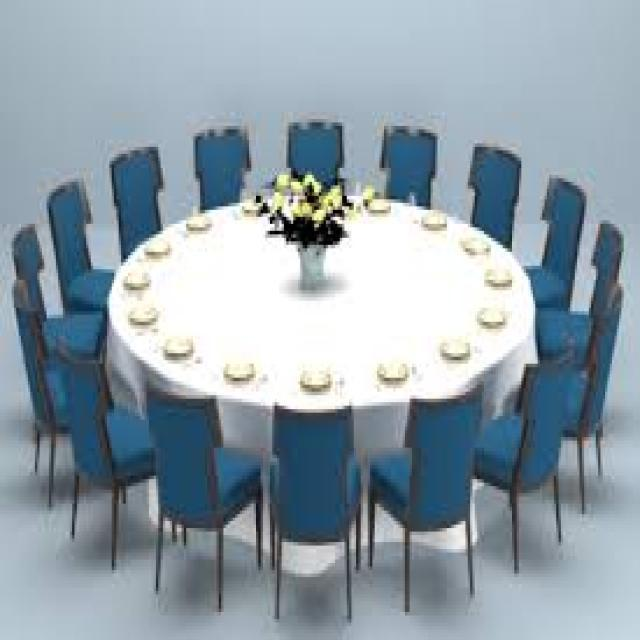table: (6, 110, 630, 623)
